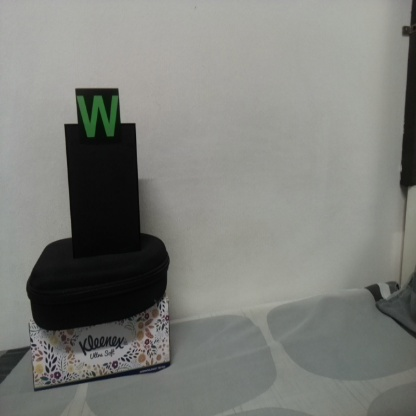id_12: (75, 89, 121, 147)
